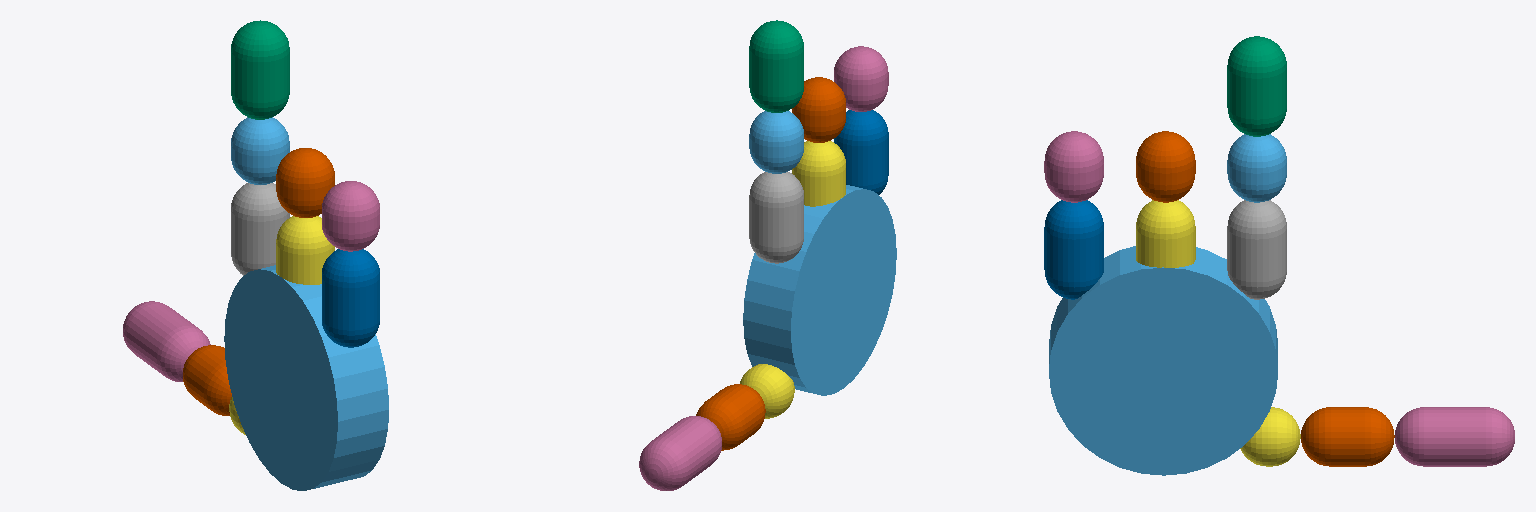
robot.urdf — DexterousHand:
<?xml version="1.0"?>
<robot name="DexterousHand">


    <link name="world"/>
    <joint name="world_to_palm" type="fixed">
        <parent link="world"/>
        <child link="palm"/>
        <origin xyz="0 0 0" rpy="0 0 0"/>
    </joint>
    <link name="palm">
        <inertial>
            <origin xyz="0 0 0.057" rpy="0 0 0"/>
            <mass value="0.30212892864"/>
            <inertia ixx="0.00049080844457568" ixy="0.0" ixz="0.0" iyy="0.00026746366246427523" iyz="0.0" izz="0.00026746366246427523"/>
        </inertial>
        <visual>
            <origin xyz="0 0 0.057" rpy="1.5708 0 1.5708"/>
            <geometry>
                <cylinder radius="0.057" length="0.0296"/>
            </geometry>
            <material name="default"/>
        </visual>
        <collision>
            <origin xyz="0 0 0.057" rpy="1.5708 0 1.5708"/>
            <geometry>
                <cylinder radius="0.057" length="0.0296"/>
            </geometry>
        </collision>
    </link>

    
    <joint name="thumb_joint1" type="revolute">
        <parent link="palm"/>
        <child link="thumb_base"/>
        <origin xyz="0.0029 0.0368 0.0157" rpy="-1.5708 -1.5708 0.0"/>
        <axis xyz="-1 0 0"/>
        <limit lower="-0.349" upper="2.094" effort="1.0" velocity="1.0"/>
    </joint>

    <link name="thumb_base"></link>

    <joint name="thumb_joint2" type="revolute">
        <parent link="thumb_base"/>
        <child link="thumb_proximal"/>
        <origin xyz="0.0 0.0 0.0" rpy="0.0 0.0 0.0"/>
        <axis xyz="0 0 1"/>
        <limit lower="-0.47" upper="2.443" effort="1.0" velocity="1.0"/>
    </joint>

    <link name="thumb_proximal">
        <inertial>
            <origin xyz="0 0 0.01565" rpy="0 0 0"/>
            <mass value="0.021538658803200002"/>
            <inertia ixx="2.9378910096388167e-06" ixy="0.0" ixz="0.0" 
            iyy="2.9378910096388167e-06" iyz="0.0" izz="2.358913912126464e-06"/>
        </inertial>
        <visual>
            <origin xyz="0 0 0.01565" rpy="0 0 0"/>
            <geometry>
                <cylinder radius="0.0148" length="0.0017000000000000001"/>
            </geometry>
            <material name="default"/>
        </visual>
        <visual>
            <origin xyz="0 0 0.0148" rpy="0 0 0"/>
            <geometry>
                <sphere radius="0.0148"/>
            </geometry>
            <material name="default"/>
        </visual>
        <visual>
            <origin xyz="0 0 0.0165" rpy="0 0 0"/>
            <geometry>
                <sphere radius="0.0148"/>
            </geometry>
            <material name="default"/>
        </visual>
        <collision>
            <origin xyz="0 0 0.01565" rpy="0 0 0"/>
            <geometry>
                <cylinder radius="0.0148" length="0.0017000000000000001"/>
            </geometry>
        </collision>
        <collision>
            <origin xyz="0 0 0.0148" rpy="0 0 0"/>
            <geometry>
                <sphere radius="0.0148"/>
            </geometry>
        </collision>
        <collision>
            <origin xyz="0 0 0.0165" rpy="0 0 0"/>
            <geometry>
                <sphere radius="0.0148"/>
            </geometry>
        </collision>
    </link>

    <joint name="thumb_joint3" type="revolute">
        <parent link="thumb_proximal"/>
        <child link="thumb_knuckle"/>
        <origin xyz="0.0 0.0 0.0313" rpy="0.0 0.0 0.0"/>
        <axis xyz="1 0 0"/>
        <limit lower="0.0" upper="0.0" effort="1.0" velocity="1.0"/>
    </joint>

    <link name="thumb_knuckle"></link>

    <joint name="thumb_joint4" type="revolute">
        <parent link="thumb_knuckle"/>
        <child link="thumb_middle"/>
        <origin xyz="0 0 0" rpy="0 0 0"/> 
        <axis xyz="0 1 0"/>
        <limit lower="-1.2" upper="1.9" effort="1.0" velocity="1.0"/>
    </joint>

    <link name="thumb_middle">
        <inertial>
            <origin xyz="0 0 0.0233" rpy="0 0 0"/>
            <mass value="0.032067140582400004"/>
            <inertia ixx="7.5589732685519385e-06" ixy="0.0" ixz="0.0" 
            iyy="7.5589732685519385e-06" iyz="0.0" izz="3.5119932365844485e-06"/>
        </inertial>
        <visual>
            <origin xyz="0 0 0.0233" rpy="0 0 0"/>
            <geometry>
                <cylinder radius="0.0148" length="0.017"/>
            </geometry>
            <material name="default"/>
        </visual>
        <visual>
            <origin xyz="0 0 0.0148" rpy="0 0 0"/>
            <geometry>
                <sphere radius="0.0148"/>
            </geometry>
            <material name="default"/>
        </visual>
        <visual>
            <origin xyz="0 0 0.0318" rpy="0 0 0"/>
            <geometry>
                <sphere radius="0.0148"/>
            </geometry>
            <material name="default"/>
        </visual>
        <collision>
            <origin xyz="0 0 0.0233" rpy="0 0 0"/>
            <geometry>
                <cylinder radius="0.0148" length="0.017"/>
            </geometry>
        </collision>
        <collision>
            <origin xyz="0 0 0.0148" rpy="0 0 0"/>
            <geometry>
                <sphere radius="0.0148"/>
            </geometry>
        </collision>
        <collision>
            <origin xyz="0 0 0.0318" rpy="0 0 0"/>
            <geometry>
                <sphere radius="0.0148"/>
            </geometry>
        </collision>
    </link>

    <joint name="thumb_joint5" type="revolute">
        <parent link="thumb_middle"/>
        <child link="thumb_distal"/>
        <origin xyz="0 0 0.0466" rpy="0 0 0"/> 
        <axis xyz="0 1 0"/>
        <limit lower="-1.34" upper="1.88" effort="1.0" velocity="1.0"/>
    </joint>

    <link name="thumb_distal">
        <inertial>
            <origin xyz="0 0 0.03" rpy="0 0 0"/>
            <mass value="0.04128816384"/>
            <inertia ixx="1.46473890038784e-05" ixy="0.0" ixz="0.0" 
            iyy="1.46473890038784e-05" iyz="0.0" izz="4.521879703756801e-06"/>
        </inertial>
        <visual>
            <origin xyz="0 0 0.03" rpy="0 0 0"/>
            <geometry>
                <cylinder radius="0.0148" length="0.030399999999999996"/>
            </geometry>
            <material name="default"/>
        </visual>
        <visual>
            <origin xyz="0 0 0.0148" rpy="0 0 0"/>
            <geometry>
                <sphere radius="0.0148"/>
            </geometry>
            <material name="default"/>
        </visual>
        <visual>
            <origin xyz="0 0 0.0452" rpy="0 0 0"/>
            <geometry>
                <sphere radius="0.0148"/>
            </geometry>
            <material name="default"/>
        </visual>
        <collision>
            <origin xyz="0 0 0.03" rpy="0 0 0"/>
            <geometry>
                <cylinder radius="0.0148" length="0.030399999999999996"/>
            </geometry>
        </collision>
        <collision>
            <origin xyz="0 0 0.0148" rpy="0 0 0"/>
            <geometry>
                <sphere radius="0.0148"/>
            </geometry>
        </collision>
        <collision>
            <origin xyz="0 0 0.0452" rpy="0 0 0"/>
            <geometry>
                <sphere radius="0.0148"/>
            </geometry>
        </collision>
    </link>

    
    <joint name="index_joint1" type="revolute">
        <parent link="palm"/>
        <child link="index_proximal"/>
        <origin xyz="0.0 0.0465 0.091" rpy="0.0 0.0 0.0"/>
        <axis xyz="0 1 0"/>
        <limit lower="-0.314" upper="2.23" effort="1.0" velocity="1.0"/>
    </joint>

    <link name="index_proximal">
        <inertial>
            <origin xyz="0 0 0.02655" rpy="0 0 0"/>
            <mass value="0.036540024998400006"/>
            <inertia ixx="1.058665009272394e-05" ixy="0.0" ixz="0.0" 
            iyy="1.058665009272394e-05" iyz="0.0" izz="4.001863537824769e-06"/>
        </inertial>
        <visual>
            <origin xyz="0 0 0.02655" rpy="0 0 0"/>
            <geometry>
                <cylinder radius="0.0148" length="0.0235"/>
            </geometry>
            <material name="default"/>
        </visual>
        <visual>
            <origin xyz="0 0 0.0148" rpy="0 0 0"/>
            <geometry>
                <sphere radius="0.0148"/>
            </geometry>
            <material name="default"/>
        </visual>
        <visual>
            <origin xyz="0 0 0.0383" rpy="0 0 0"/>
            <geometry>
                <sphere radius="0.0148"/>
            </geometry>
            <material name="default"/>
        </visual>
        <collision>
            <origin xyz="0 0 0.02655" rpy="0 0 0"/>
            <geometry>
                <cylinder radius="0.0148" length="0.0235"/>
            </geometry>
        </collision>
        <collision>
            <origin xyz="0 0 0.0148" rpy="0 0 0"/>
            <geometry>
                <sphere radius="0.0148"/>
            </geometry>
        </collision>
        <collision>
            <origin xyz="0 0 0.0383" rpy="0 0 0"/>
            <geometry>
                <sphere radius="0.0148"/>
            </geometry>
        </collision>
    </link>

    <joint name="index_joint2" type="revolute">
        <parent link="index_proximal"/>
        <child link="index_dummy"/>
        <origin xyz="0.0 0.0 0.038" rpy="0.0 0.0 0.0"/>
        <axis xyz="1 0 0"/>
        <limit lower="-1.047" upper="1.047" effort="1.0" velocity="1.0"/>
    </joint>

    <link name="index_dummy"></link>

    <joint name="index_joint3" type="revolute">
        <parent link="index_dummy"/>
        <child link="index_middle"/>
        <origin xyz="0 0 0.015100000000000002" rpy="0 0 0"/>
        <axis xyz="0 1 0"/>
        <limit lower="-0.506" upper="1.885" effort="1.0" velocity="1.0"/>
    </joint>

    <link name="index_middle">
        <inertial>
            <origin xyz="0 0 0.01805" rpy="0 0 0"/>
            <mass value="0.0248417119104"/>
            <inertia ixx="4.058162759109537e-06" ixy="0.0" ixz="0.0" 
            iyy="4.058162759109537e-06" iyz="0.0" izz="2.7206642884270085e-06"/>
        </inertial>
        <visual>
            <origin xyz="0 0 0.01805" rpy="0 0 0"/>
            <geometry>
                <cylinder radius="0.0148" length="0.006499999999999999"/>
            </geometry>
            <material name="default"/>
        </visual>
        <visual>
            <origin xyz="0 0 0.0148" rpy="0 0 0"/>
            <geometry>
                <sphere radius="0.0148"/>
            </geometry>
            <material name="default"/>
        </visual>
        <visual>
            <origin xyz="0 0 0.0213" rpy="0 0 0"/>
            <geometry>
                <sphere radius="0.0148"/>
            </geometry>
            <material name="default"/>
        </visual>
        <collision>
            <origin xyz="0 0 0.01805" rpy="0 0 0"/>
            <geometry>
                <cylinder radius="0.0148" length="0.006499999999999999"/>
            </geometry>
        </collision>
        <collision>
            <origin xyz="0 0 0.0148" rpy="0 0 0"/>
            <geometry>
                <sphere radius="0.0148"/>
            </geometry>
        </collision>
        <collision>
            <origin xyz="0 0 0.0213" rpy="0 0 0"/>
            <geometry>
                <sphere radius="0.0148"/>
            </geometry>
        </collision>
    </link>

    <joint name="index_joint4" type="revolute">
        <parent link="index_middle"/>
        <child link="index_distal"/>
        <origin xyz="0 0 0.0361" rpy="0 0 0"/> 
        <axis xyz="0 1 0"/>
        <limit lower="-0.366" upper="2.042" effort="1.0" velocity="1.0"/>
    </joint>

    <link name="index_distal">
        <inertial>
            <origin xyz="0 0 0.026" rpy="0 0 0"/>
            <mass value="0.035783075328"/>
            <inertia ixx="1.002260084553728e-05" ixy="0.0" ixz="0.0" 
            iyy="1.002260084553728e-05" iyz="0.0" izz="3.91896240992256e-06"/>
        </inertial>
        <visual>
            <origin xyz="0 0 0.026" rpy="0 0 0"/>
            <geometry>
                <cylinder radius="0.0148" length="0.022399999999999996"/>
            </geometry>
            <material name="default"/>
        </visual>
        <visual>
            <origin xyz="0 0 0.0148" rpy="0 0 0"/>
            <geometry>
                <sphere radius="0.0148"/>
            </geometry>
            <material name="default"/>
        </visual>
        <visual>
            <origin xyz="0 0 0.0372" rpy="0 0 0"/>
            <geometry>
                <sphere radius="0.0148"/>
            </geometry>
            <material name="default"/>
        </visual>
        <collision>
            <origin xyz="0 0 0.026" rpy="0 0 0"/>
            <geometry>
                <cylinder radius="0.0148" length="0.022399999999999996"/>
            </geometry>
        </collision>
        <collision>
            <origin xyz="0 0 0.0148" rpy="0 0 0"/>
            <geometry>
                <sphere radius="0.0148"/>
            </geometry>
        </collision>
        <collision>
            <origin xyz="0 0 0.0372" rpy="0 0 0"/>
            <geometry>
                <sphere radius="0.0148"/>
            </geometry>
        </collision>
    </link>

    
    <joint name="middle_joint1" type="revolute">
        <parent link="palm"/>
        <child link="middle_proximal"/>
        <origin xyz="0.0 0.0011 0.091" rpy="0.0 0.0 0.0"/>
        <axis xyz="0 1 0"/>
        <limit lower="-0.314" upper="2.23" effort="1.0" velocity="1.0"/>
    </joint>

    <link name="middle_proximal">
        <inertial>
            <origin xyz="0 0 0.02655" rpy="0 0 0"/>
            <mass value="0.036540024998400006"/>
            <inertia ixx="1.058665009272394e-05" ixy="0.0" ixz="0.0" 
            iyy="1.058665009272394e-05" iyz="0.0" izz="4.001863537824769e-06"/>
        </inertial>
        <visual>
            <origin xyz="0 0 0.02655" rpy="0 0 0"/>
            <geometry>
                <cylinder radius="0.0148" length="0.0235"/>
            </geometry>
            <material name="default"/>
        </visual>
        <visual>
            <origin xyz="0 0 0.0148" rpy="0 0 0"/>
            <geometry>
                <sphere radius="0.0148"/>
            </geometry>
            <material name="default"/>
        </visual>
        <visual>
            <origin xyz="0 0 0.0383" rpy="0 0 0"/>
            <geometry>
                <sphere radius="0.0148"/>
            </geometry>
            <material name="default"/>
        </visual>
        <collision>
            <origin xyz="0 0 0.02655" rpy="0 0 0"/>
            <geometry>
                <cylinder radius="0.0148" length="0.0235"/>
            </geometry>
        </collision>
        <collision>
            <origin xyz="0 0 0.0148" rpy="0 0 0"/>
            <geometry>
                <sphere radius="0.0148"/>
            </geometry>
        </collision>
        <collision>
            <origin xyz="0 0 0.0383" rpy="0 0 0"/>
            <geometry>
                <sphere radius="0.0148"/>
            </geometry>
        </collision>
    </link>

    <joint name="middle_joint2" type="revolute">
        <parent link="middle_proximal"/>
        <child link="middle_dummy"/>
        <origin xyz="0.0 0.0 0.038" rpy="0.0 0.0 0.0"/>
        <axis xyz="1 0 0"/>
        <limit lower="-1.047" upper="1.047" effort="1.0" velocity="1.0"/>
    </joint>

    <link name="middle_dummy"></link>

    <joint name="middle_joint3" type="revolute">
        <parent link="middle_dummy"/>
        <child link="middle_middle"/>
        <origin xyz="0 0 0.015100000000000002" rpy="0 0 0"/>
        <axis xyz="0 1 0"/>
        <limit lower="-0.506" upper="1.885" effort="1.0" velocity="1.0"/>
    </joint>

    <link name="middle_middle">
        <inertial>
            <origin xyz="0 0 0.01805" rpy="0 0 0"/>
            <mass value="0.0248417119104"/>
            <inertia ixx="4.058162759109537e-06" ixy="0.0" ixz="0.0" 
            iyy="4.058162759109537e-06" iyz="0.0" izz="2.7206642884270085e-06"/>
        </inertial>
        <visual>
            <origin xyz="0 0 0.01805" rpy="0 0 0"/>
            <geometry>
                <cylinder radius="0.0148" length="0.006499999999999999"/>
            </geometry>
            <material name="default"/>
        </visual>
        <visual>
            <origin xyz="0 0 0.0148" rpy="0 0 0"/>
            <geometry>
                <sphere radius="0.0148"/>
            </geometry>
            <material name="default"/>
        </visual>
        <visual>
            <origin xyz="0 0 0.0213" rpy="0 0 0"/>
            <geometry>
                <sphere radius="0.0148"/>
            </geometry>
            <material name="default"/>
        </visual>
        <collision>
            <origin xyz="0 0 0.01805" rpy="0 0 0"/>
            <geometry>
                <cylinder radius="0.0148" length="0.006499999999999999"/>
            </geometry>
        </collision>
        <collision>
            <origin xyz="0 0 0.0148" rpy="0 0 0"/>
            <geometry>
                <sphere radius="0.0148"/>
            </geometry>
        </collision>
        <collision>
            <origin xyz="0 0 0.0213" rpy="0 0 0"/>
            <geometry>
                <sphere radius="0.0148"/>
            </geometry>
        </collision>
    </link>

    <joint name="middle_joint4" type="revolute">
        <parent link="middle_middle"/>
        <child link="middle_distal"/>
        <origin xyz="0 0 0.0361" rpy="0 0 0"/> 
        <axis xyz="0 1 0"/>
        <limit lower="0.0" upper="0.0" effort="1.0" velocity="1.0"/>
    </joint>

    <link name="middle_distal">
    </link>

    
    <joint name="ring_joint1" type="revolute">
        <parent link="palm"/>
        <child link="ring_proximal"/>
        <origin xyz="0.0 0.0 0.0" rpy="0.0 0.0 0.0"/>
        <axis xyz="1 0 0"/>
        <limit lower="0.0" upper="0.0" effort="1.0" velocity="1.0"/>
    </joint>

    <link name="ring_proximal">
    </link>

    <joint name="ring_joint2" type="revolute">
        <parent link="ring_proximal"/>
        <child link="ring_dummy"/>
        <origin xyz="0.0 0.0 0.0" rpy="0.0 0.0 0.0"/>
        <axis xyz="0 1 0"/>
        <limit lower="0.0" upper="0.0" effort="1.0" velocity="1.0"/>
    </joint>

    <link name="ring_dummy"></link>

    <joint name="ring_joint3" type="revolute">
        <parent link="ring_dummy"/>
        <child link="ring_middle"/>
        <origin xyz="0 0 0" rpy="0 0 0"/>
        <axis xyz="0 1 0"/>
        <limit lower="0.0" upper="0.0" effort="1.0" velocity="1.0"/>
    </joint>

    <link name="ring_middle">
    </link>

    <joint name="ring_joint4" type="revolute">
        <parent link="ring_middle"/>
        <child link="ring_distal"/>
        <origin xyz="0 0 0" rpy="0 0 0"/> 
        <axis xyz="0 1 0"/>
        <limit lower="0.0" upper="0.0" effort="1.0" velocity="1.0"/>
    </joint>

    <link name="ring_distal">
    </link>

    
    <joint name="little_joint0" type="revolute">
        <parent link="palm"/>
        <child link="little_base"/>
        <origin xyz="0.0 0.0 0.0" rpy="0.0 0.0 0.0"/>
        <axis xyz="0 1 0"/>
        <limit lower="0.0" upper="0.0" effort="1.0" velocity="1.0"/>
    </joint>

    <link name="little_base"></link>

    <joint name="little_joint1" type="revolute">
        <parent link="little_base"/>
        <child link="little_proximal"/>
        <origin xyz="0.0 -0.0443 0.091" rpy="-0.0 -0.0 -0.0"/>
        <axis xyz="0 1 0"/>
        <limit lower="-0.314" upper="2.23" effort="1.0" velocity="1.0"/>
    </joint>

    <link name="little_proximal">
        <inertial>
            <origin xyz="0 0 0.02655" rpy="0 0 0"/>
            <mass value="0.036540024998400006"/>
            <inertia ixx="1.058665009272394e-05" ixy="0.0" ixz="0.0" 
            iyy="1.058665009272394e-05" iyz="0.0" izz="4.001863537824769e-06"/>
        </inertial>
        <visual>
            <origin xyz="0 0 0.02655" rpy="0 0 0"/>
            <geometry>
                <cylinder radius="0.0148" length="0.0235"/>
            </geometry>
            <material name="default"/>
        </visual>
        <visual>
            <origin xyz="0 0 0.0148" rpy="0 0 0"/>
            <geometry>
                <sphere radius="0.0148"/>
            </geometry>
            <material name="default"/>
        </visual>
        <visual>
            <origin xyz="0 0 0.0383" rpy="0 0 0"/>
            <geometry>
                <sphere radius="0.0148"/>
            </geometry>
            <material name="default"/>
        </visual>
        <collision>
            <origin xyz="0 0 0.02655" rpy="0 0 0"/>
            <geometry>
                <cylinder radius="0.0148" length="0.0235"/>
            </geometry>
        </collision>
        <collision>
            <origin xyz="0 0 0.0148" rpy="0 0 0"/>
            <geometry>
                <sphere radius="0.0148"/>
            </geometry>
        </collision>
        <collision>
            <origin xyz="0 0 0.0383" rpy="0 0 0"/>
            <geometry>
                <sphere radius="0.0148"/>
            </geometry>
        </collision>
    </link>

    <joint name="little_joint2" type="revolute">
        <parent link="little_proximal"/>
        <child link="little_dummy"/>
        <origin xyz="0.0 0.0 0.038" rpy="0.0 0.0 0.0"/>
        <axis xyz="1 0 0"/>
        <limit lower="-1.047" upper="1.047" effort="1.0" velocity="1.0"/>
    </joint>

    <link name="little_dummy"></link>

    <joint name="little_joint3" type="revolute">
        <parent link="little_dummy"/>
        <child link="little_middle"/>
        <origin xyz="0 0 0.015100000000000002" rpy="0 0 0"/>
        <axis xyz="0 1 0"/>
        <limit lower="-0.506" upper="1.885" effort="1.0" velocity="1.0"/>
    </joint>

    <link name="little_middle">
        <inertial>
            <origin xyz="0 0 0.01805" rpy="0 0 0"/>
            <mass value="0.0248417119104"/>
            <inertia ixx="4.058162759109537e-06" ixy="0.0" ixz="0.0" 
            iyy="4.058162759109537e-06" iyz="0.0" izz="2.7206642884270085e-06"/>
        </inertial>
        <visual>
            <origin xyz="0 0 0.01805" rpy="0 0 0"/>
            <geometry>
                <cylinder radius="0.0148" length="0.006499999999999999"/>
            </geometry>
            <material name="default"/>
        </visual>
        <visual>
            <origin xyz="0 0 0.0148" rpy="0 0 0"/>
            <geometry>
                <sphere radius="0.0148"/>
            </geometry>
            <material name="default"/>
        </visual>
        <visual>
            <origin xyz="0 0 0.0213" rpy="0 0 0"/>
            <geometry>
                <sphere radius="0.0148"/>
            </geometry>
            <material name="default"/>
        </visual>
        <collision>
            <origin xyz="0 0 0.01805" rpy="0 0 0"/>
            <geometry>
                <cylinder radius="0.0148" length="0.006499999999999999"/>
            </geometry>
        </collision>
        <collision>
            <origin xyz="0 0 0.0148" rpy="0 0 0"/>
            <geometry>
                <sphere radius="0.0148"/>
            </geometry>
        </collision>
        <collision>
            <origin xyz="0 0 0.0213" rpy="0 0 0"/>
            <geometry>
                <sphere radius="0.0148"/>
            </geometry>
        </collision>
    </link>

    <joint name="little_joint4" type="revolute">
        <parent link="little_middle"/>
        <child link="little_distal"/>
        <origin xyz="0 0 0.0361" rpy="0 0 0"/>
        <axis xyz="0 1 0"/>
        <limit lower="0.0" upper="0.0" effort="1.0" velocity="1.0"/>
    </joint>

    <link name="little_distal">
    </link>

</robot>

--- Facts derived from the render (not from the file) ---
3 views of the same robot in one strip: view 1: azimuth 30°, elevation 25°; view 2: azimuth 150°, elevation 25°; view 3: azimuth 270°, elevation 25° (orthographic).
Robot: DexterousHand — 24 links, 23 joints (22 revolute, 1 fixed); root link world; default pose: all joints at 0.
Visible links, largest first — view 1: palm, index_distal, little_proximal, thumb_distal, index_proximal, little_middle, middle_middle, index_middle, middle_proximal, thumb_middle; view 2: palm, index_proximal, index_distal, thumb_distal, little_proximal, index_middle, thumb_middle, little_middle, middle_proximal, middle_middle, thumb_proximal; view 3: palm, thumb_distal, index_distal, index_proximal, little_proximal, thumb_middle, middle_proximal, little_middle, middle_middle, index_middle, thumb_proximal.
Boxes of the visible links, left/top/right/bottom form: palm: left=224, top=265, right=388, bottom=490; index_distal: left=231, top=20, right=289, bottom=119; little_proximal: left=322, top=249, right=379, bottom=347; thumb_distal: left=123, top=301, right=210, bottom=381; index_proximal: left=231, top=183, right=289, bottom=275; little_middle: left=322, top=181, right=379, bottom=251; middle_middle: left=276, top=148, right=334, bottom=217; index_middle: left=231, top=117, right=289, bottom=184; middle_proximal: left=276, top=216, right=334, bottom=284; thumb_middle: left=183, top=345, right=231, bottom=415; palm: left=743, top=185, right=896, bottom=395; index_proximal: left=749, top=172, right=803, bottom=263; index_distal: left=749, top=20, right=803, bottom=112; thumb_distal: left=639, top=416, right=721, bottom=490; little_proximal: left=834, top=110, right=888, bottom=194; index_middle: left=749, top=111, right=803, bottom=173; thumb_middle: left=696, top=384, right=765, bottom=450; little_middle: left=834, top=46, right=888, bottom=111; middle_proximal: left=792, top=141, right=845, bottom=206; middle_middle: left=792, top=77, right=845, bottom=142; thumb_proximal: left=740, top=364, right=794, bottom=418; palm: left=1049, top=246, right=1277, bottom=475; thumb_distal: left=1395, top=407, right=1514, bottom=466; index_distal: left=1227, top=36, right=1286, bottom=136; index_proximal: left=1227, top=200, right=1286, bottom=299; little_proximal: left=1044, top=200, right=1103, bottom=299; thumb_middle: left=1301, top=407, right=1394, bottom=466; middle_proximal: left=1136, top=200, right=1195, bottom=267; little_middle: left=1044, top=131, right=1103, bottom=202; middle_middle: left=1136, top=131, right=1195, bottom=202; index_middle: left=1227, top=134, right=1286, bottom=202; thumb_proximal: left=1240, top=407, right=1300, bottom=466.
Bounding box of the posed robot: 0.0325 × 0.2338 × 0.2322 m (x, y, z).
Geometry: primitives only (box / cylinder / sphere), no mesh files.
